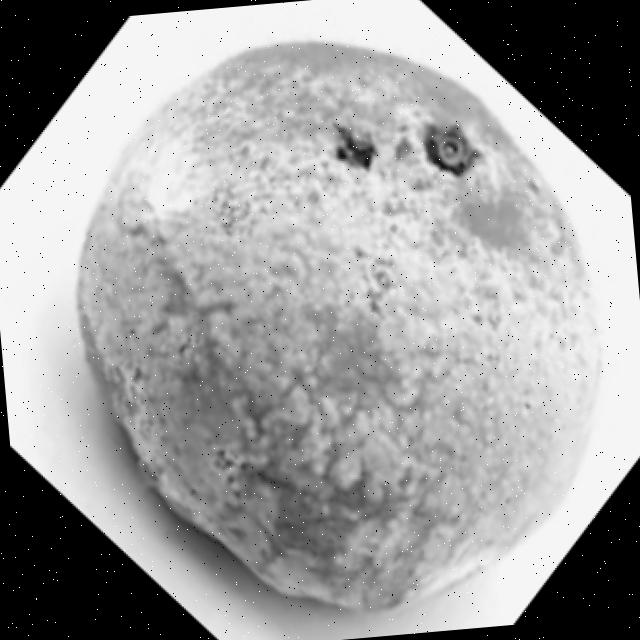Rotten: (58, 13, 624, 640)
